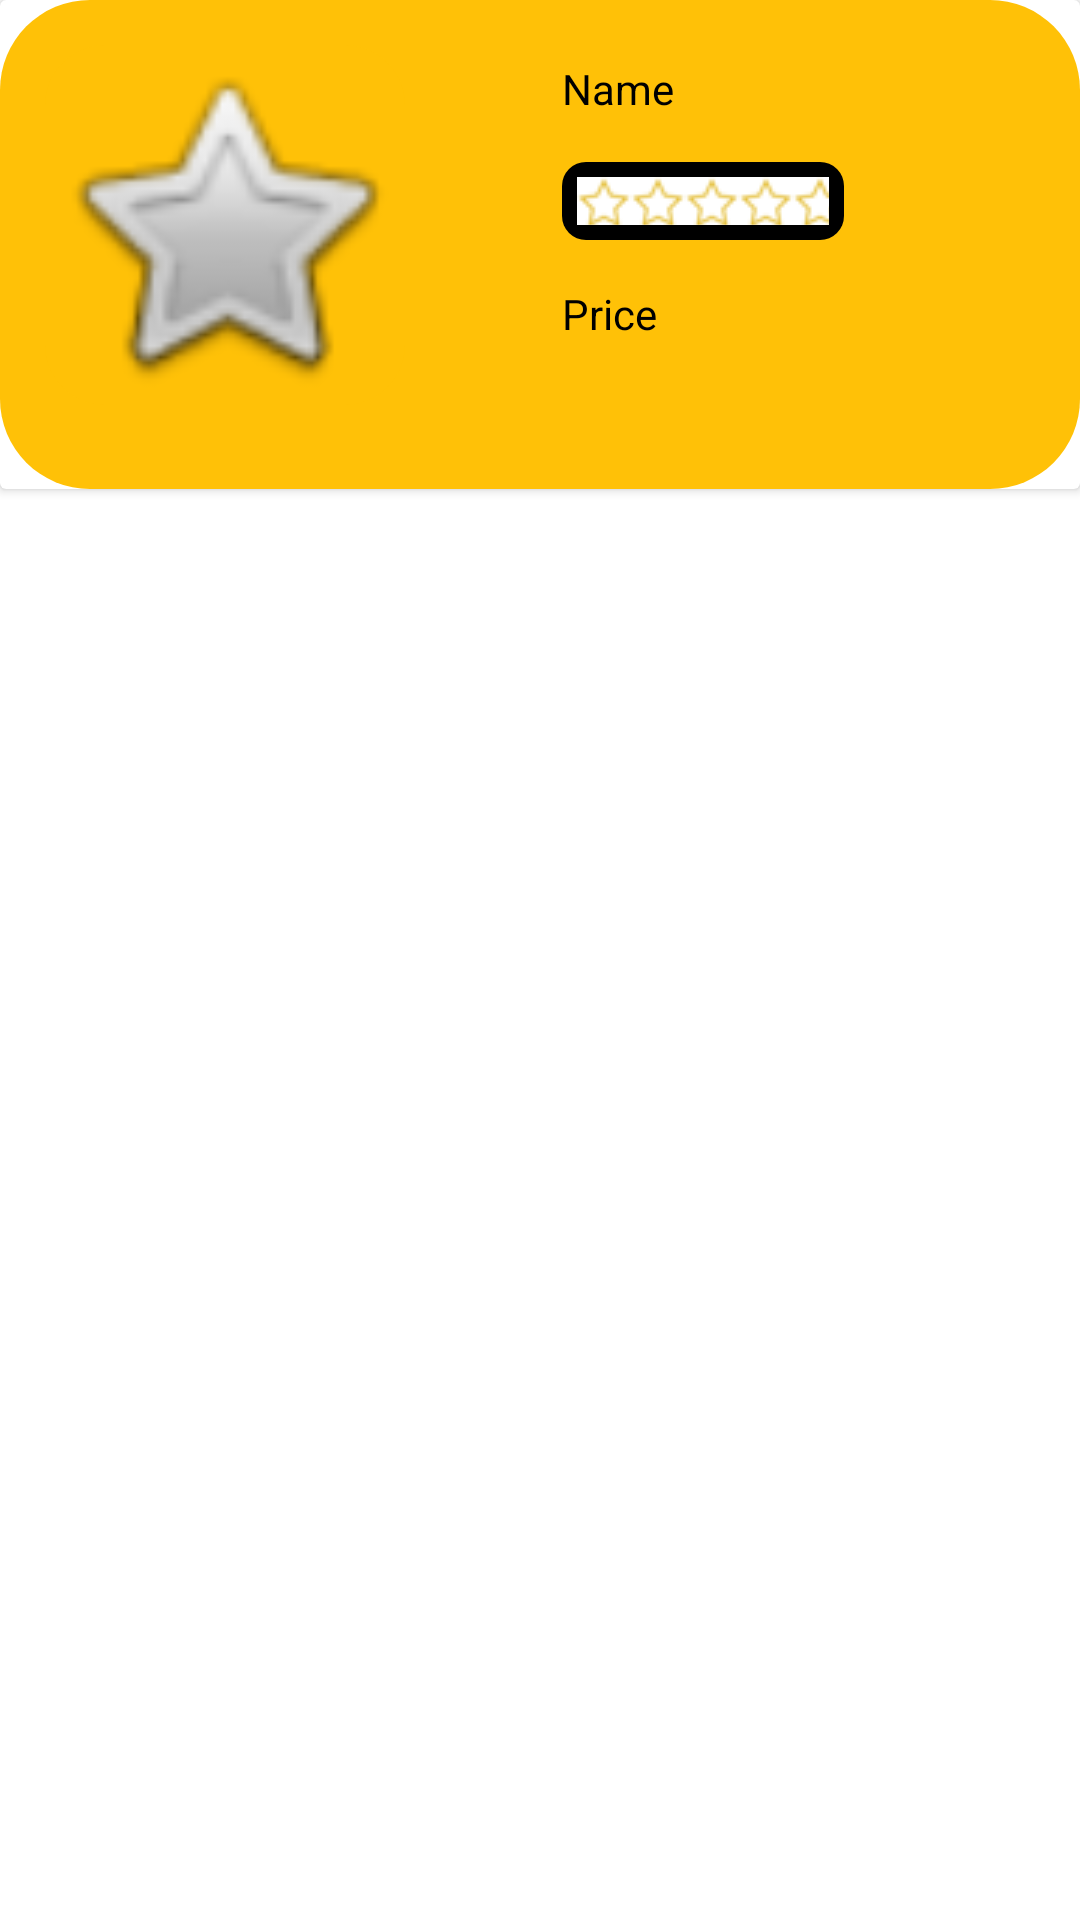

Where to tap for icons on this 1080w x 1920h app screen, as [x,y]:
star: [228,227]
